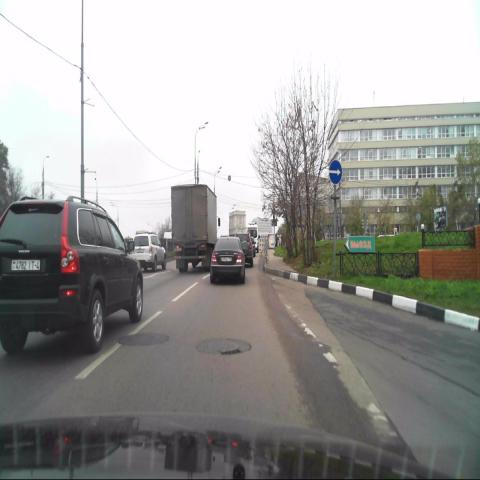4_1_2_1: (329, 159, 342, 185)
